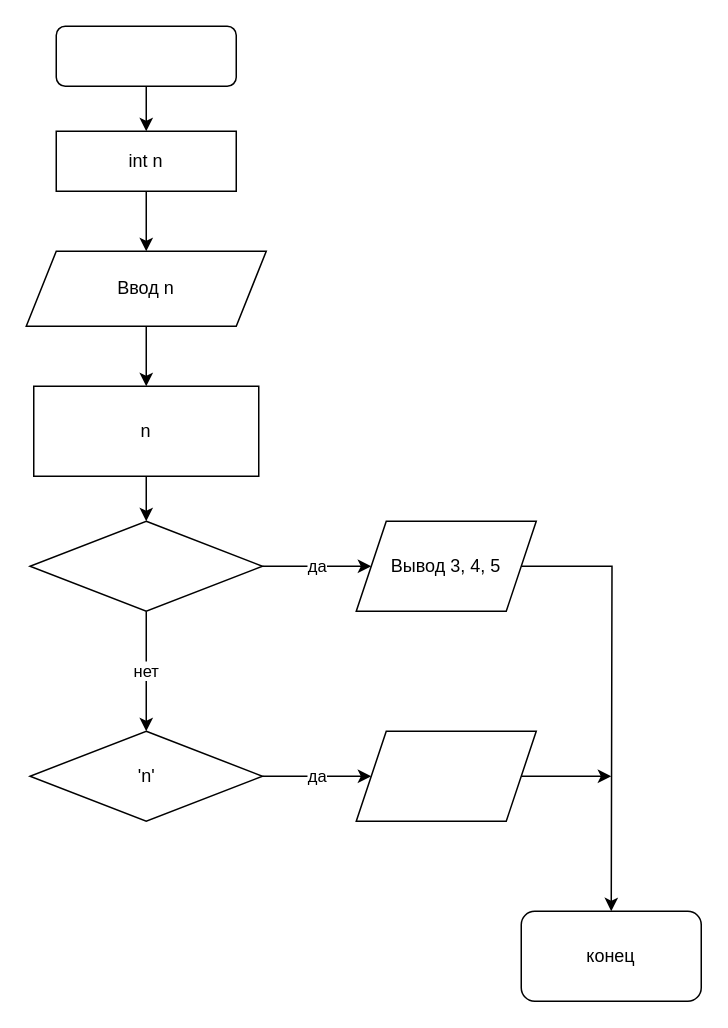
Some shapes in this 728 by 1028 pixel diagram are drawn without their labels. Each missing label, with the box of its shape:
'y': (28, 520, 262, 611)
Вывод 2: (355, 730, 536, 821)
начало: (55, 25, 236, 86)
